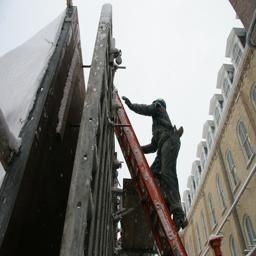hat: (150, 95, 174, 117)
no vest: (146, 108, 183, 164)
